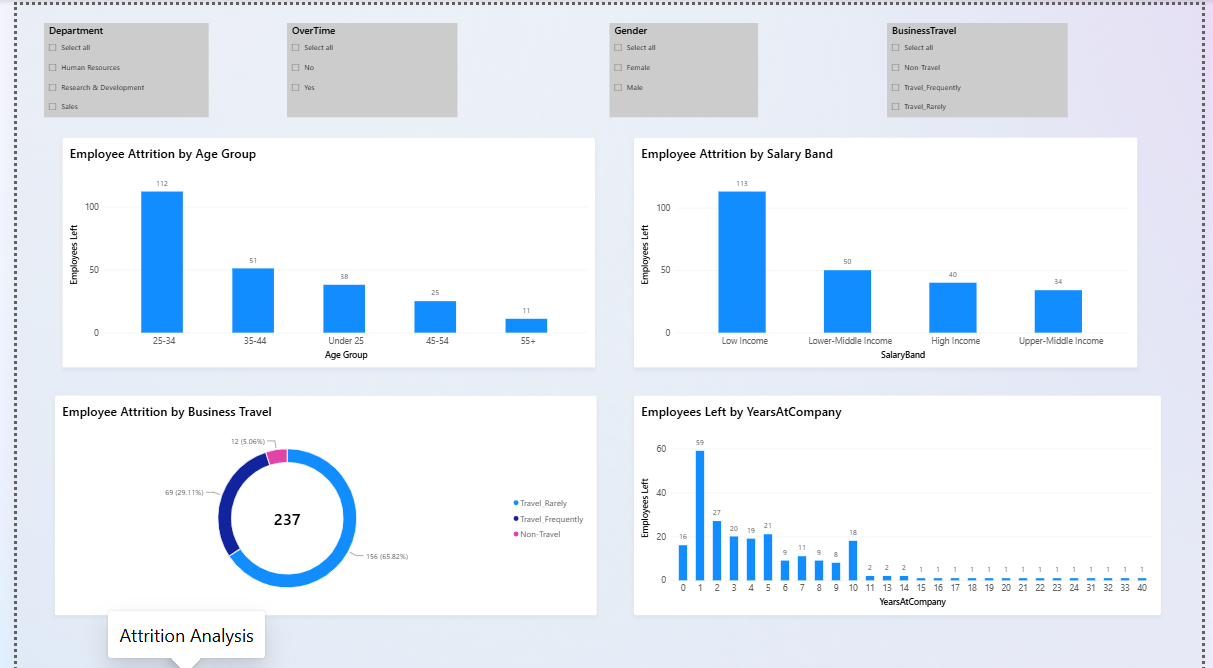

What the dashboard file says about the page in this screenshot:
{"tool":"powerbi","page":{"name":"Attrition Analysis","canvas":[1920,1080],"ordinal":1},"visuals":[{"type":"clusteredColumnChart","title":"Employee Attrition by Age Group","fields":{"Category":["Employee_Data.Age Group"],"Y":["Employee_Data.Employees Left"]},"box":[73.8,214.3,864.3,373.8],"z":0},{"type":"clusteredColumnChart","title":"Employee Attrition by Salary Band","fields":{"Category":["Employee_Data.SalaryBand"],"Y":["Employee_Data.Employees Left"]},"box":[997.6,214.3,816.7,373.8],"z":1000},{"type":"donutChart","title":"Employee Attrition by Business Travel","fields":{"Category":["Employee_Data.BusinessTravel"],"Y":["Employee_Data.Employees Left"]},"box":[59.5,631,878.6,357.1],"z":2000},{"type":"clusteredColumnChart","fields":{"Category":["Employee_Data.YearsAtCompany"],"Y":["Employee_Data.Employees Left"]},"box":[997.6,631,854.8,357.1],"z":3000},{"type":"slicer","fields":{"Values":["Employee_Data.Department"]},"box":[42.9,28.6,266.7,152.4],"z":3001},{"type":"slicer","fields":{"Values":["Employee_Data.OverTime"]},"box":[438.1,28.6,276.2,152.4],"z":3002},{"type":"slicer","fields":{"Values":["Employee_Data.Gender"]},"box":[959.5,28.6,240.5,152.4],"z":3003},{"type":"slicer","fields":{"Values":["Employee_Data.BusinessTravel"]},"box":[1409.5,28.6,292.9,152.4],"z":3004}]}

Visuals, with their boxes in screenshot pixels (x1, y1, x2, y2), scaled from the page's 1920x1080 canvas onto the 1213x668 screenshot:
"Employee Attrition by Age Group" clusteredColumnChart: bbox=[47, 133, 593, 364]
"Employee Attrition by Salary Band" clusteredColumnChart: bbox=[630, 133, 1146, 364]
"Employee Attrition by Business Travel" donutChart: bbox=[38, 390, 593, 611]
clusteredColumnChart - Employee_Data.YearsAtCompany x Employee_Data.Employees Left: bbox=[630, 390, 1170, 611]
slicer - Employee_Data.Department: bbox=[27, 18, 196, 112]
slicer - Employee_Data.OverTime: bbox=[277, 18, 451, 112]
slicer - Employee_Data.Gender: bbox=[606, 18, 758, 112]
slicer - Employee_Data.BusinessTravel: bbox=[890, 18, 1076, 112]
